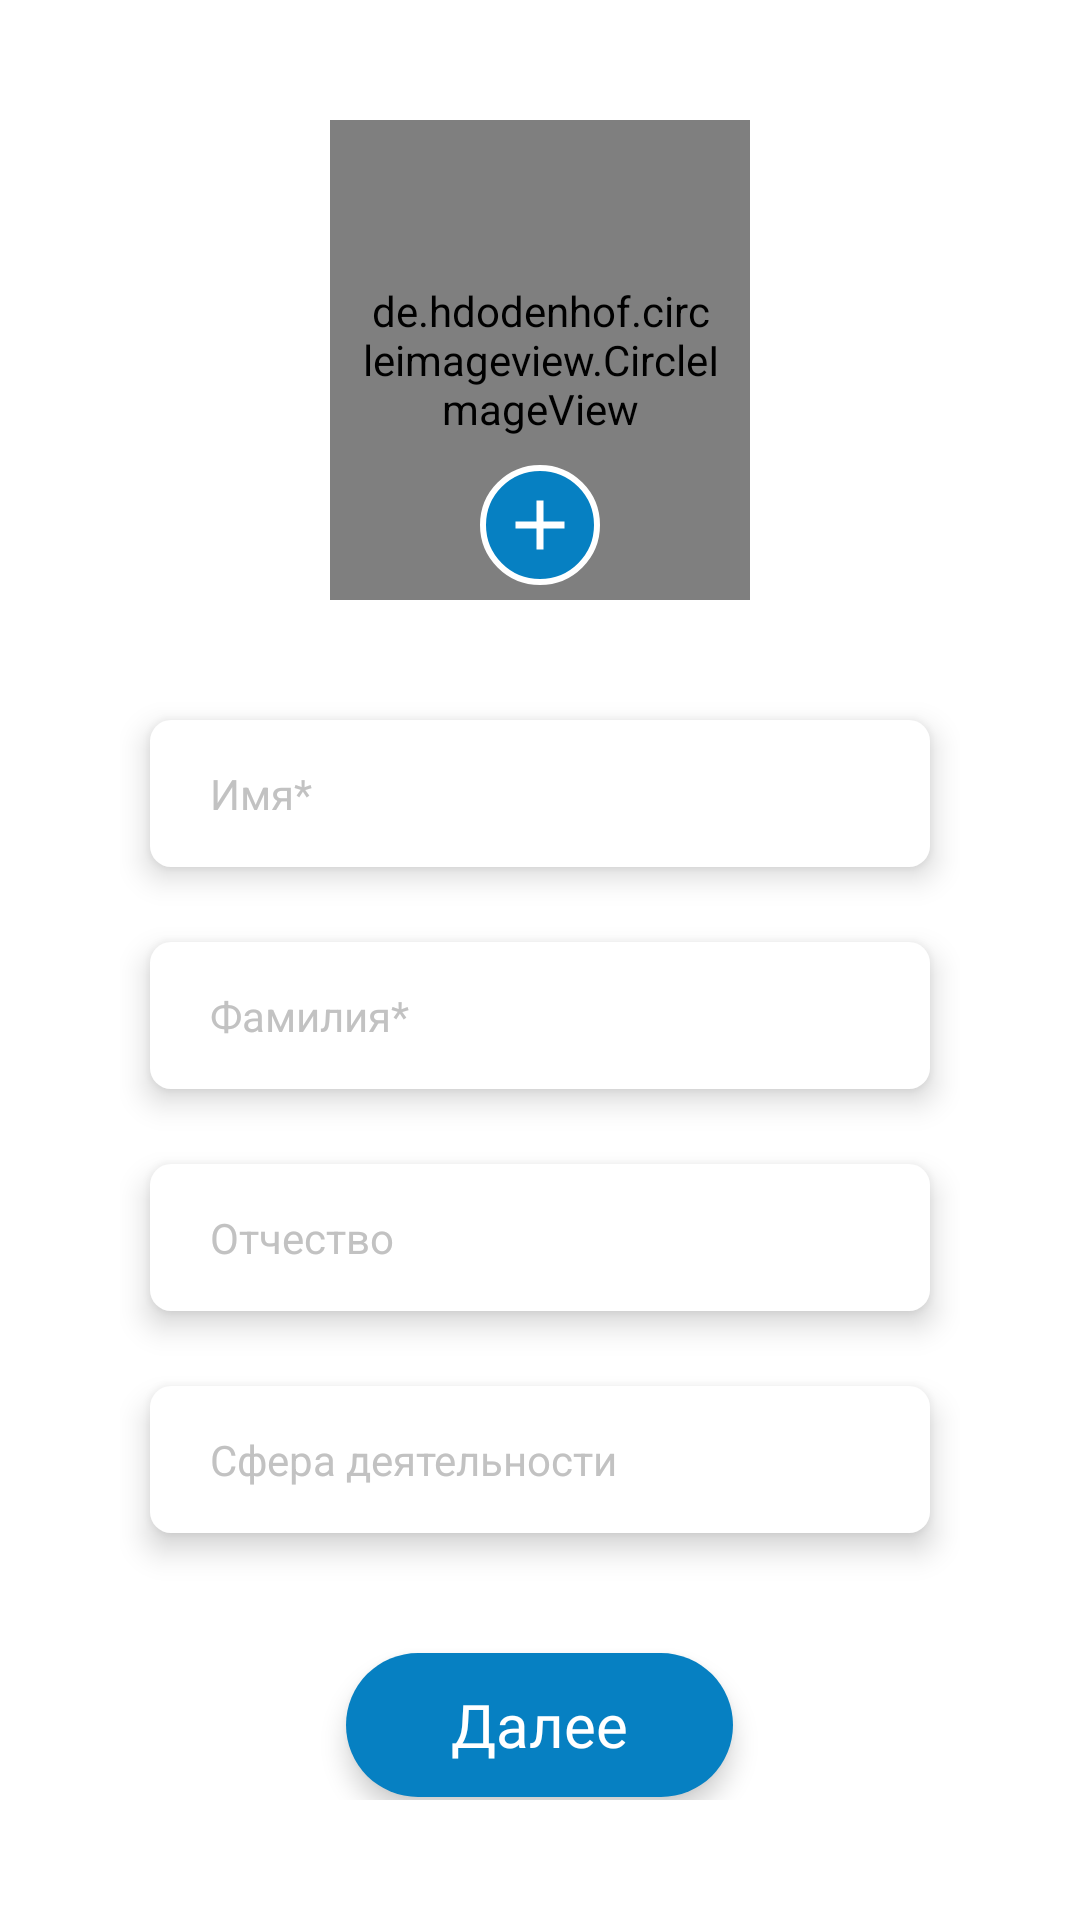

Screen size 1080×1920. Icon name, then its box in pixels as (x1, y1, x2, y2):
add: (480, 465, 600, 585)
